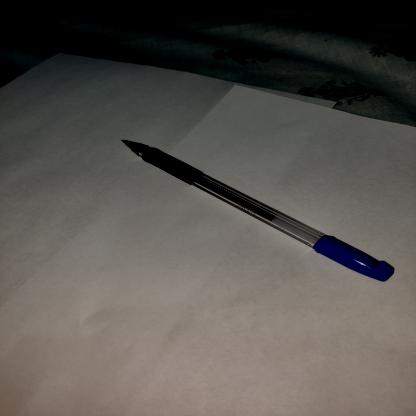pen: (117, 131, 408, 313)
